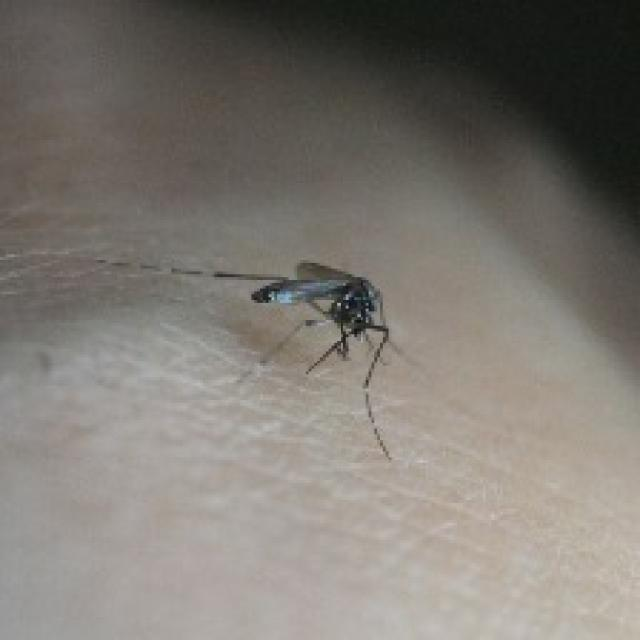aedes: (92, 210, 472, 482)
